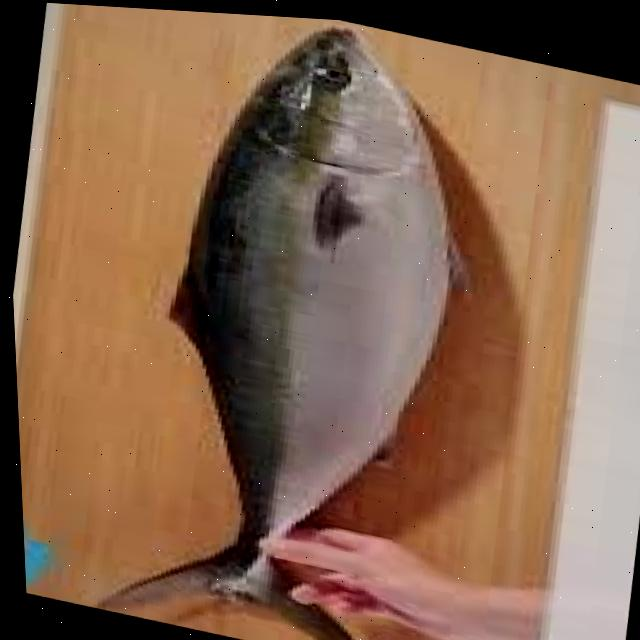Kingfish: (57, 3, 499, 640)
